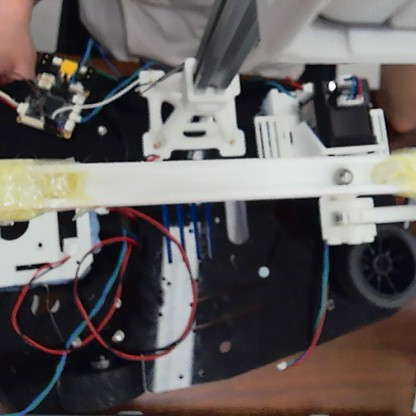ironball: (332, 166, 352, 185)
